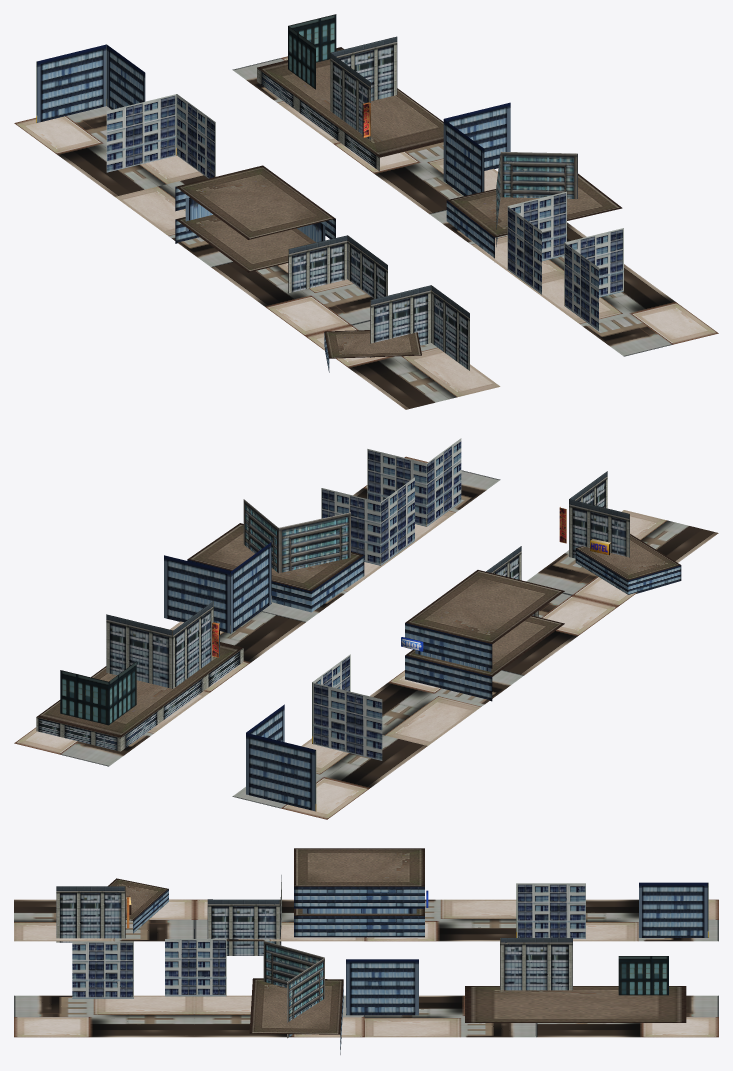
The model's file is ny_city_03.fbx.
3 renders of one model, top to bottom at view 1: azimuth 30°, elevation 25°; view 2: azimuth 150°, elevation 25°; view 3: azimuth 270°, elevation 25°, orthographic. The views are drawn at different scales.
Visible parts, largest first — view 1: polySurface92; view 2: polySurface92; view 3: polySurface92.
Boxes of the visible parts, box(x1,y1,x2,y2) form: polySurface92: box(14, 14, 718, 409); polySurface92: box(14, 438, 718, 819); polySurface92: box(14, 848, 718, 1054).
Bounding box in the file's own units: 5447 × 1281 × 10000.
